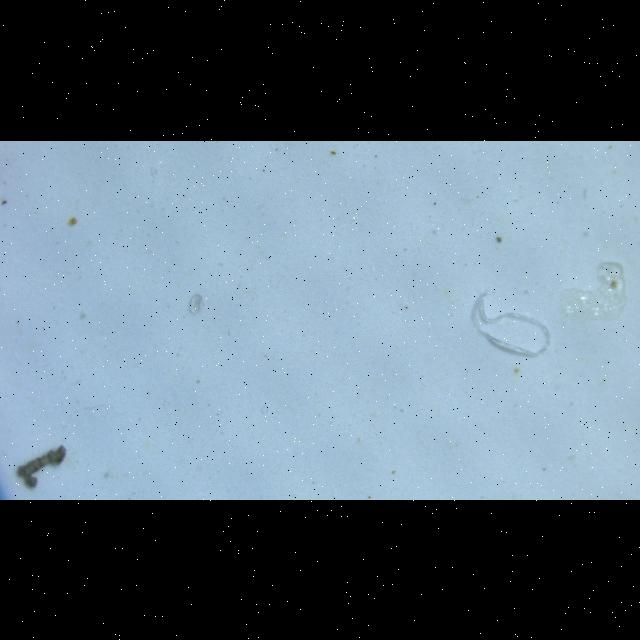Fibre: (473, 293, 550, 356)
Fragment: (562, 262, 627, 320), (17, 445, 66, 487), (188, 293, 204, 314)
